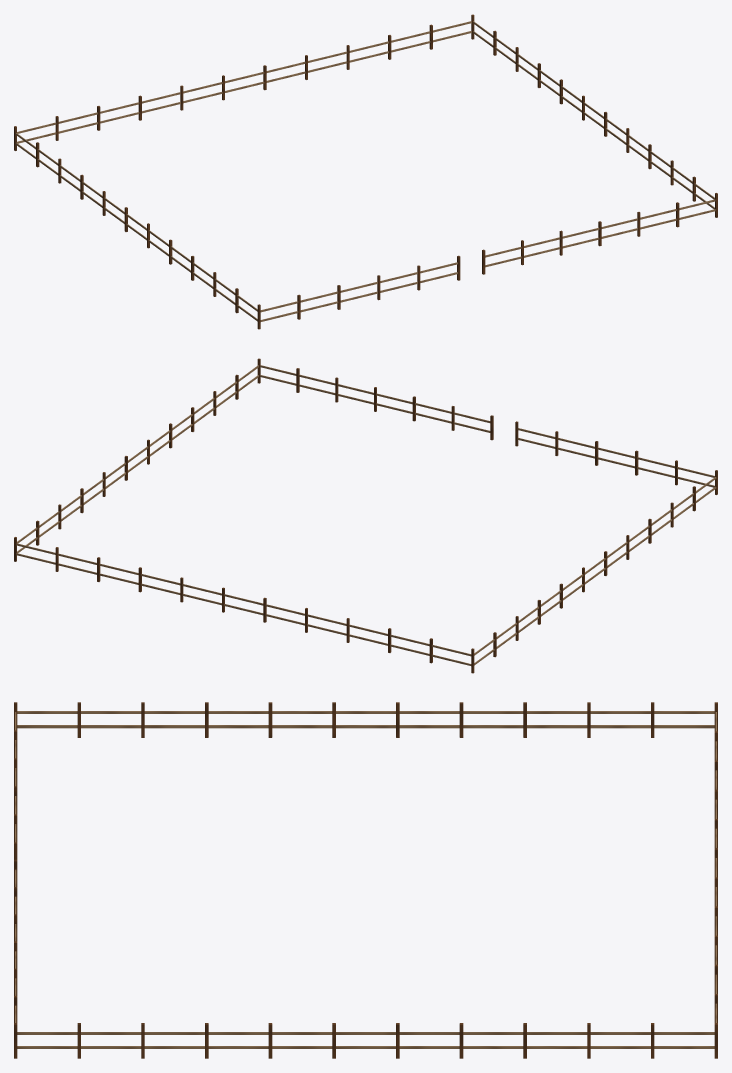
File: Cerca.fbx
3 renders of one model, top to bottom at view 1: azimuth 30°, elevation 25°; view 2: azimuth 150°, elevation 25°; view 3: azimuth 270°, elevation 25°, orthographic. The views are drawn at different scales.
Parts seen in each view (by area): view 1: Cerca_Lados, Cerca_Norte, Cerca_Sur; view 2: Cerca_Lados, Cerca_Norte, Cerca_Sur; view 3: Cerca_Lados, Cerca_Sur, Cerca_Norte.
Part boxes in pixels (x1=…): Cerca_Lados: x1=14, y1=14, x2=717, y2=329; Cerca_Norte: x1=17, y1=21, x2=471, y2=143; Cerca_Sur: x1=260, y1=199, x2=715, y2=321; Cerca_Lados: x1=14, y1=358, x2=717, y2=673; Cerca_Norte: x1=16, y1=543, x2=471, y2=665; Cerca_Sur: x1=260, y1=365, x2=714, y2=487; Cerca_Lados: x1=14, y1=702, x2=717, y2=1058; Cerca_Sur: x1=14, y1=712, x2=17, y2=1022; Cerca_Norte: x1=714, y1=712, x2=717, y2=1022.
Size of the model in its own units: 2210 by 2040 by 110.
